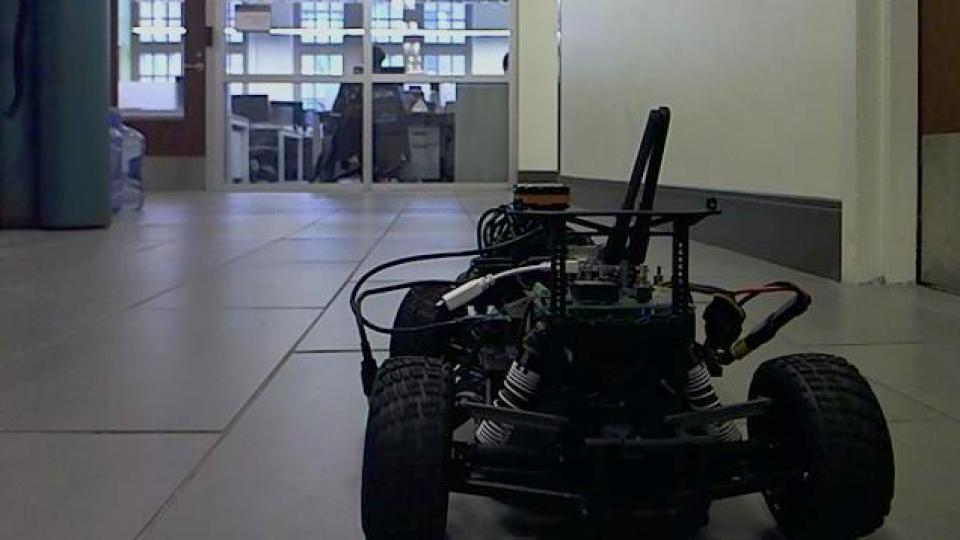car: (345, 102, 898, 540)
